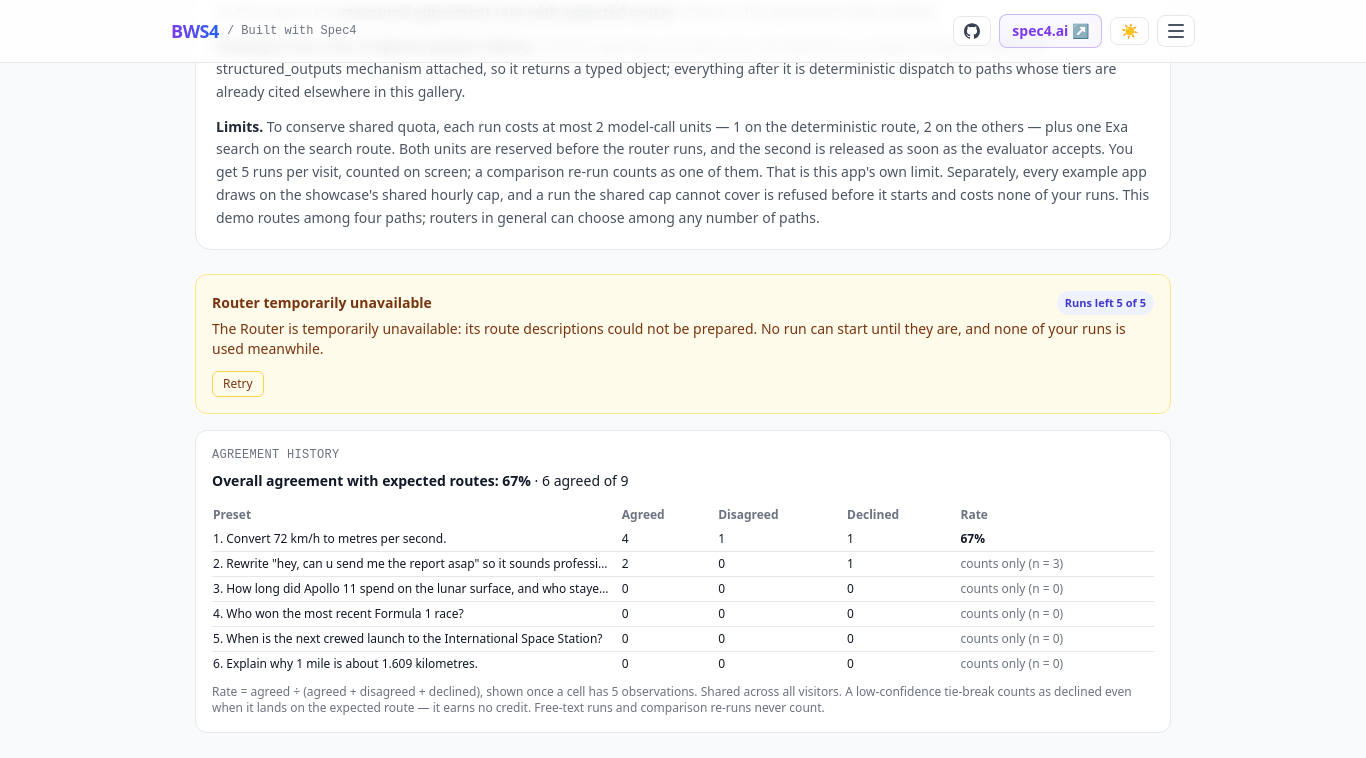
Test: the Retry button › restores the input and knowledge panel on success, without a reload
(page scrolled)
Click the button "Retry": point(238, 384) [212,371,264,397]
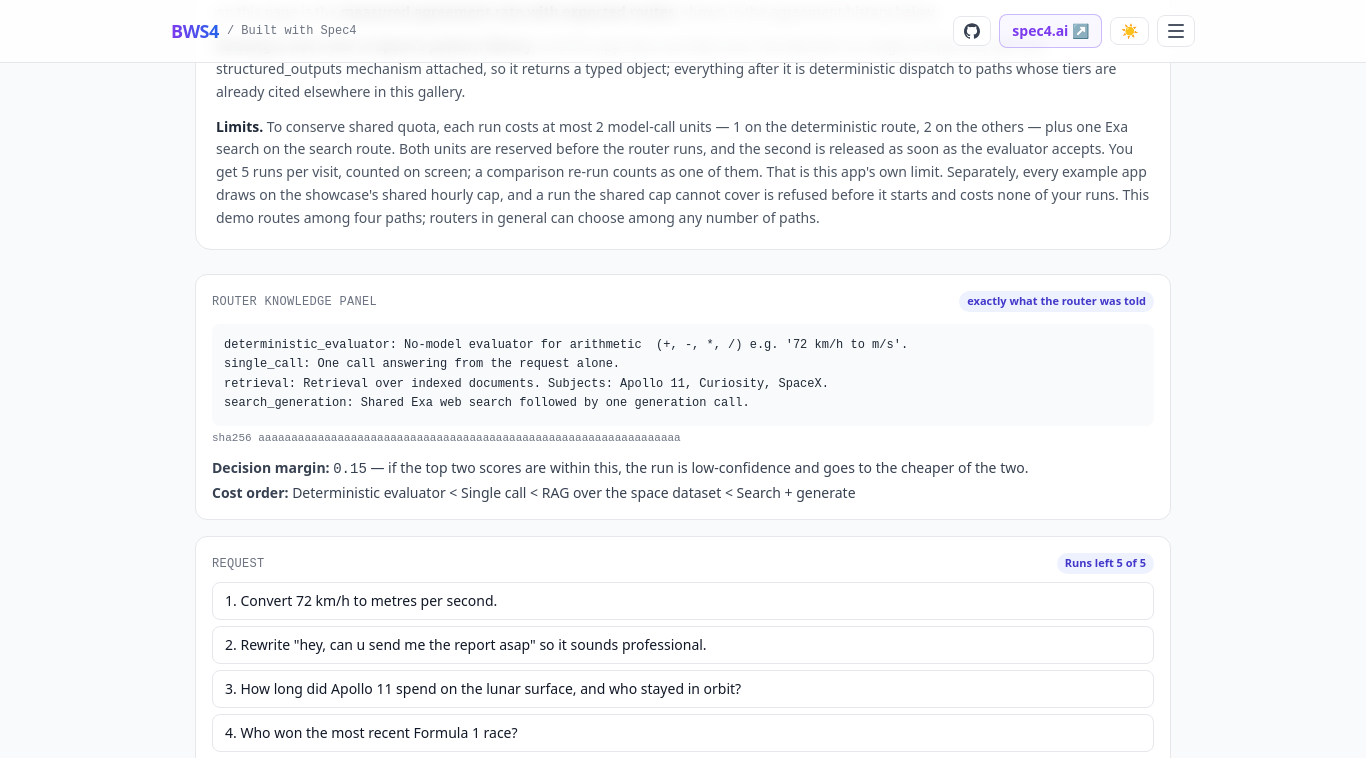
Expected: the message with test id "router-unavailable" is gone
